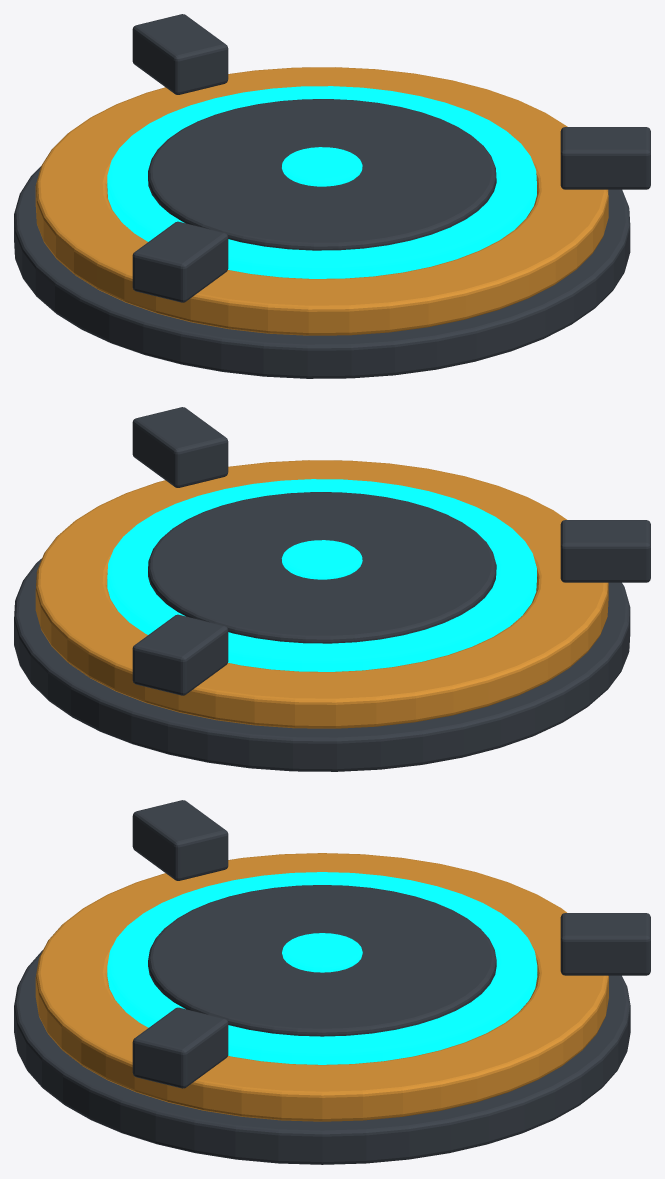
Rendered from SM_RobotCenter_FormPad.fbx.
3 views of the same model, one above another, from view 1: azimuth 30°, elevation 25°; view 2: azimuth 150°, elevation 25°; view 3: azimuth 270°, elevation 25° (orthographic).
Parts seen in each view (by area): view 1: SM_RobotCenter_FormPad.001; view 2: SM_RobotCenter_FormPad.001; view 3: SM_RobotCenter_FormPad.001.
Boxes of the visible parts, x1,y1,x2,y2 form: SM_RobotCenter_FormPad.001: [14, 14, 650, 378]; SM_RobotCenter_FormPad.001: [14, 407, 650, 771]; SM_RobotCenter_FormPad.001: [14, 800, 650, 1164].
Size of the model in its own units: 409 by 396 by 79.
